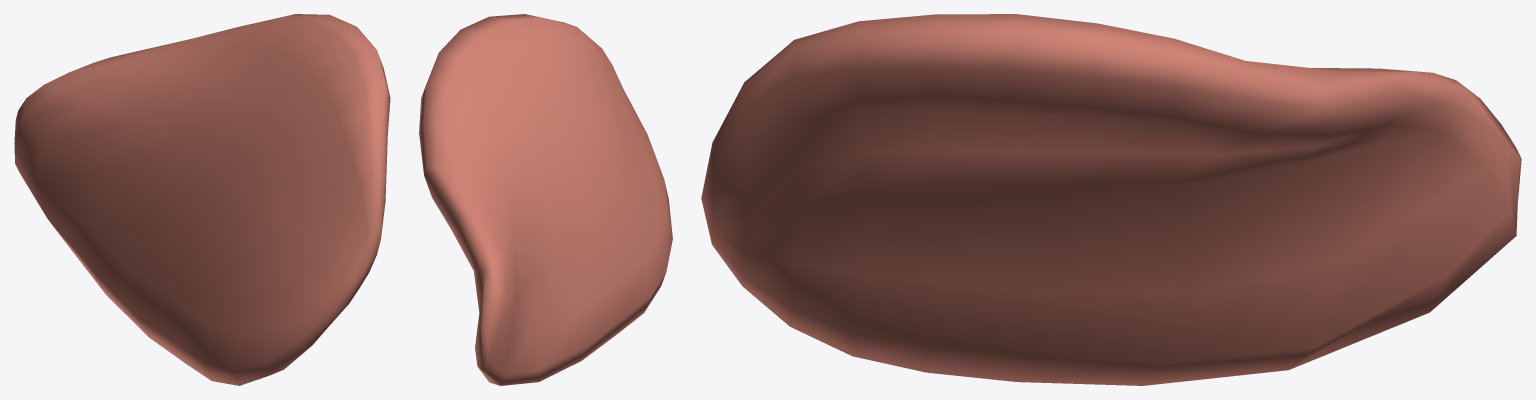
3 renders of one model, left to right at view 1: azimuth 30°, elevation 25°; view 2: azimuth 150°, elevation 25°; view 3: azimuth 270°, elevation 25°, orthographic. The views are drawn at different scales.
Parts seen in each view (by area): view 1: 右侧髂肌腱下囊; view 2: 右侧髂肌腱下囊; view 3: 右侧髂肌腱下囊.
Boxes of the visible parts, x1,y1,x2,y2 form: 右侧髂肌腱下囊: [14, 14, 390, 385]; 右侧髂肌腱下囊: [419, 14, 672, 385]; 右侧髂肌腱下囊: [701, 14, 1521, 385].
Size of the model in its own units: 0.0137 by 0.0195 by 0.0306.
